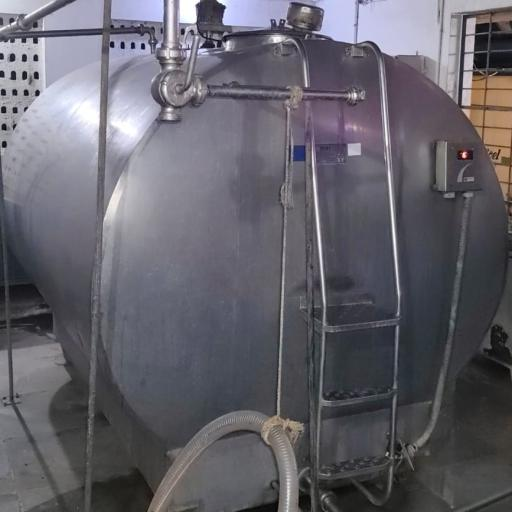silo: (2, 29, 510, 511)
